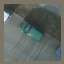car: (18, 21, 46, 43)
